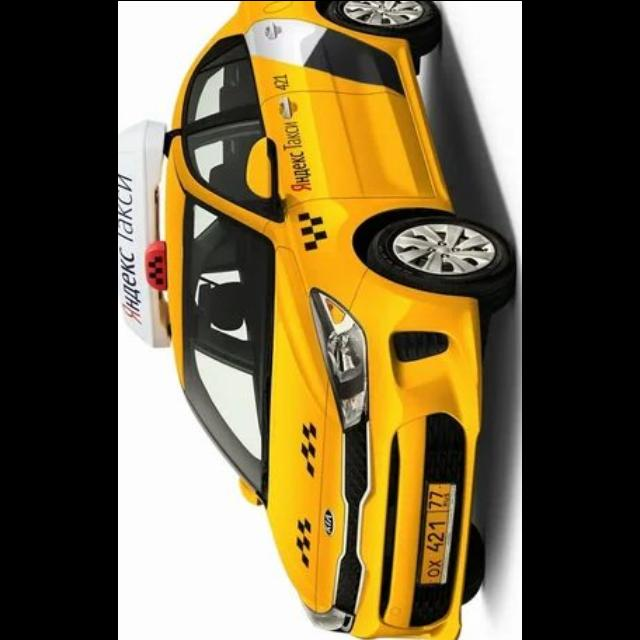taxi: (119, 1, 517, 640)
